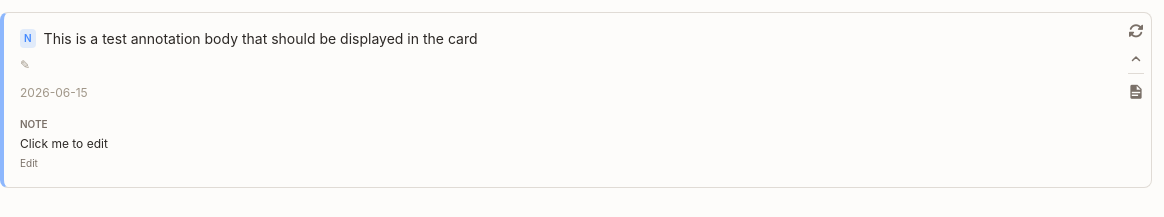
Test: CardboxCard › clicking card-note-display enters edit mode (click-to-edit)
The width and height of the screenshot is (1164, 217).
// Click the display element
Step 1. Click the element with test id "card-note-display" → (64, 144), box [20, 136, 108, 151]
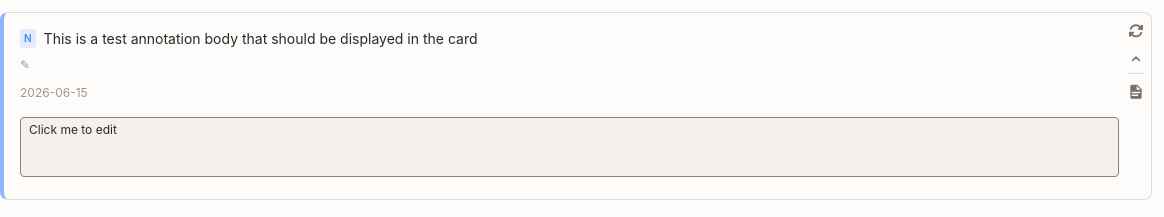
Check: the text box with test id "card-note-textarea" is shown, box [20, 117, 1119, 177]
Check: the element with test id "card-note-display" is gone
